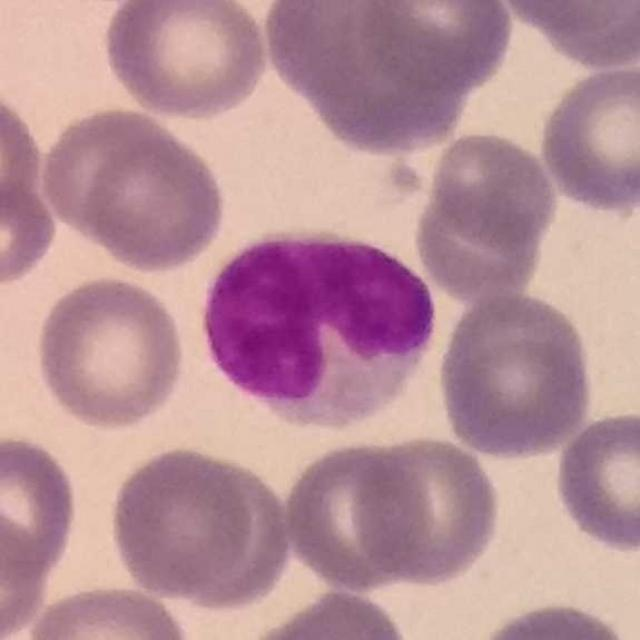Monocyte: (196, 224, 443, 433)
Platelets: (371, 146, 430, 210)
RBC: (35, 102, 232, 275), (264, 0, 472, 156), (433, 288, 599, 462), (31, 272, 190, 434), (107, 441, 264, 605), (350, 432, 506, 589), (277, 438, 430, 596), (416, 124, 562, 270), (98, 0, 272, 122), (535, 59, 640, 217), (355, 0, 517, 96), (551, 406, 640, 557), (0, 430, 82, 586), (21, 580, 197, 640), (239, 585, 415, 640), (505, 0, 640, 71), (469, 596, 636, 640), (0, 174, 61, 290), (0, 82, 48, 227), (0, 508, 52, 640), (488, 0, 637, 32)
